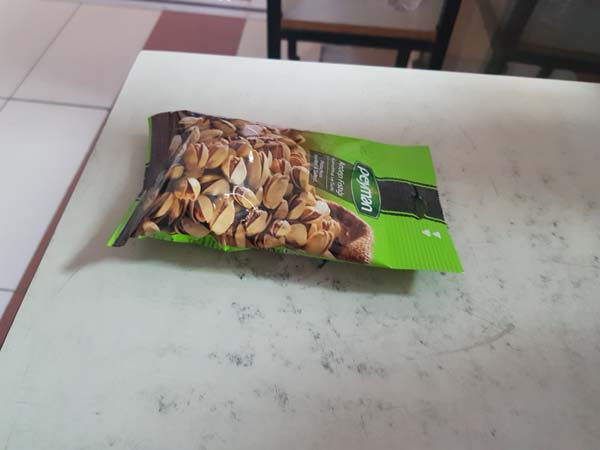antepfistigi: (109, 110, 469, 286)
